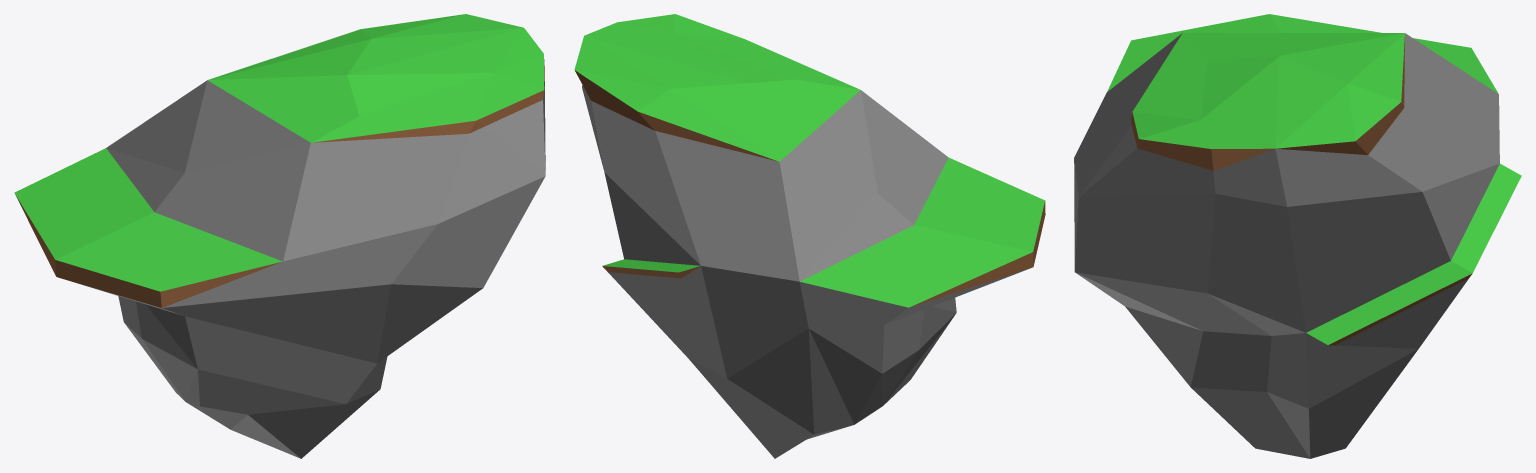
Rendered from Island2.fbx.
3 views of the same model, side by side, from view 1: azimuth 30°, elevation 25°; view 2: azimuth 150°, elevation 25°; view 3: azimuth 270°, elevation 25° (orthographic). The views are drawn at different scales.
Parts seen in each view (by area): view 1: Island_2; view 2: Island_2; view 3: Island_2.
Part boxes in pixels (x1=…): Island_2: x1=14, y1=14, x2=545, y2=458; Island_2: x1=574, y1=14, x2=1045, y2=458; Island_2: x1=1074, y1=14, x2=1521, y2=458.
Bounding box in the file's own units: 5359 × 4034 × 3757.
